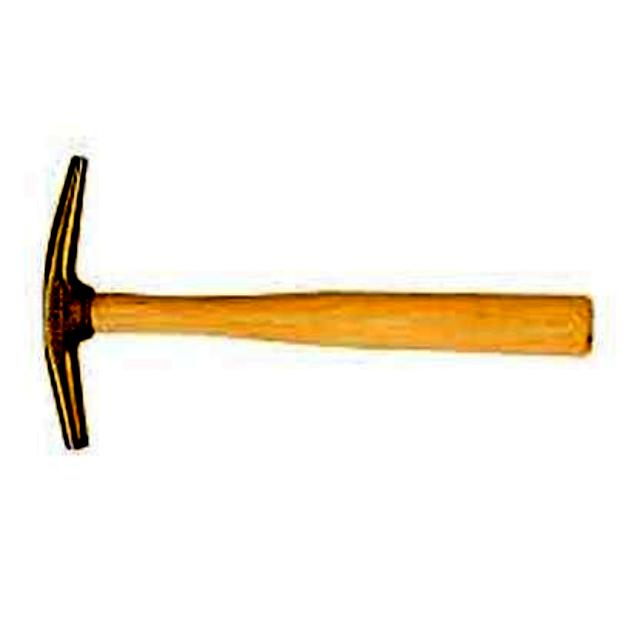hammer: (46, 146, 604, 462)
